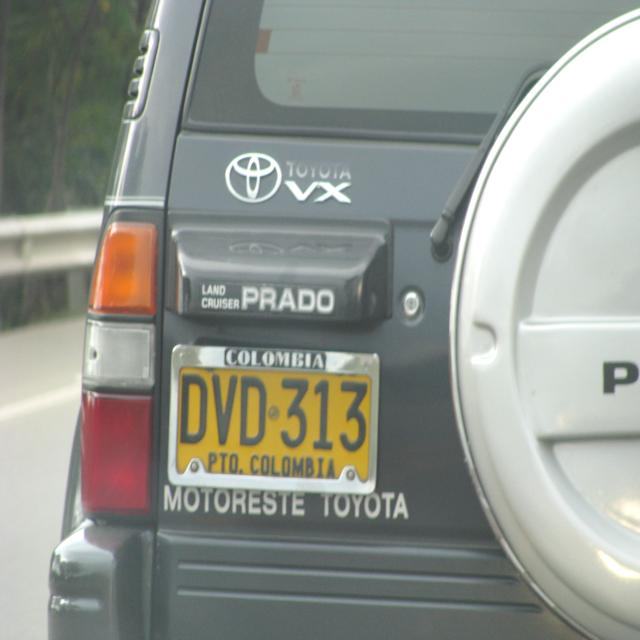placa: (176, 364, 371, 481)
